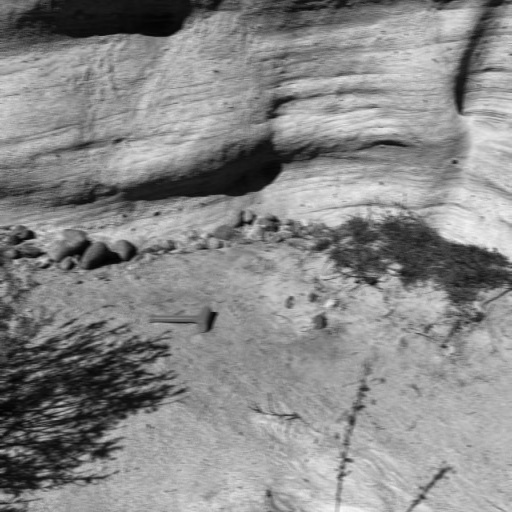bottle: (146, 300, 212, 338)
